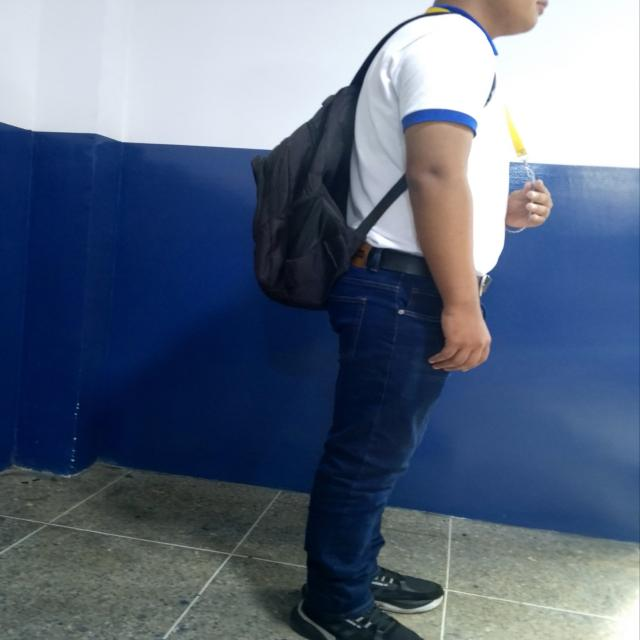pantalon_oscuro: (300, 262, 489, 622)
uniforme_superior: (346, 2, 512, 275)
